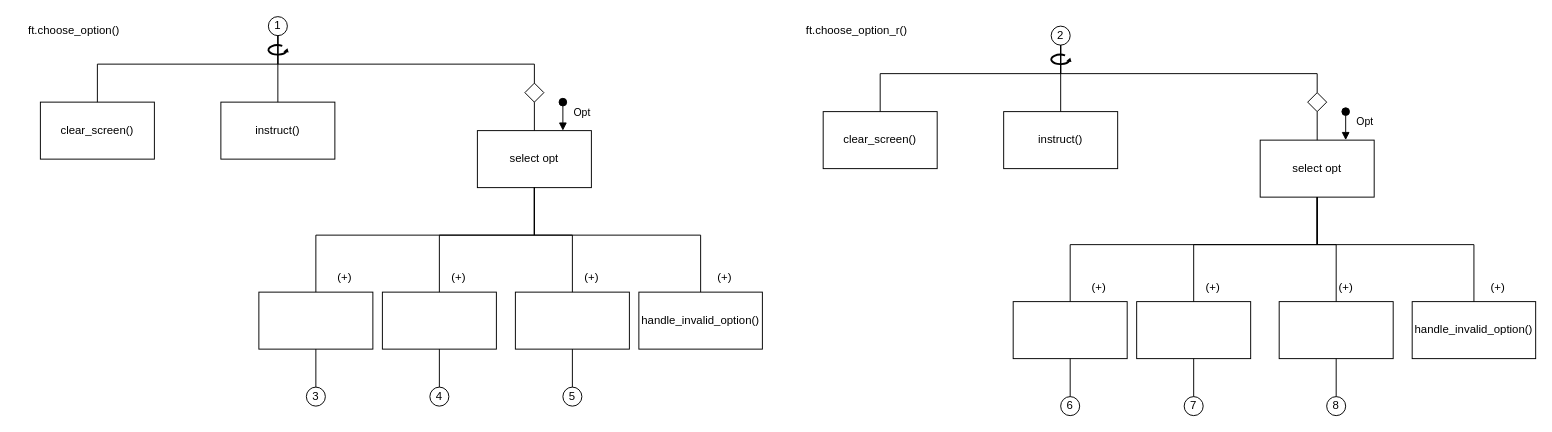
Image size: 1552x432. Some labels were removed from this diagram. The centre of each missing label's shape, as x and y in pixels:
"rw.cafe()" goes at pixel 1193 330.
"rw.fast_food()" goes at pixel 1335 330.
"rw.restaurant()" goes at pixel 1069 330.
"st.cafe()" goes at pixel 438 320.
"st.fast_food()" goes at pixel 571 320.
"st.restaurant()" goes at pixel 315 320.
